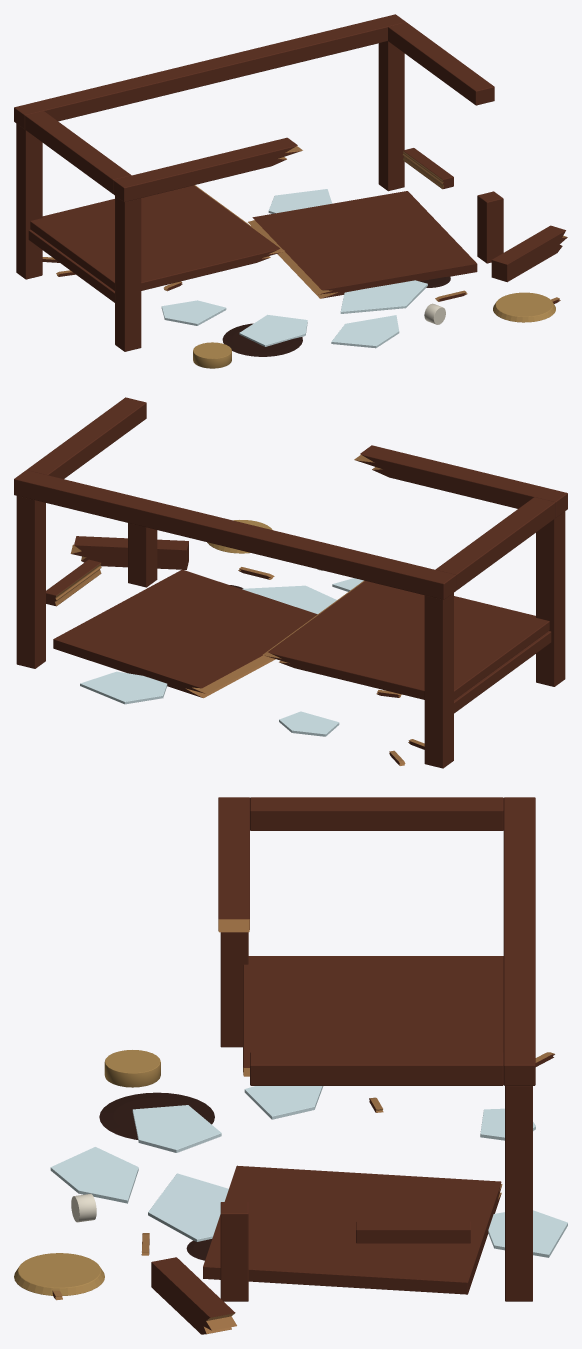
File: teatable.fbx
3 renders of one model, top to bottom at view 1: azimuth 30°, elevation 25°; view 2: azimuth 150°, elevation 25°; view 3: azimuth 270°, elevation 25°, orthographic. The views are drawn at different scales.
Visible parts, largest first — view 1: 02_CoffeeTable_Wrecked_Frame_Wood, 02_CoffeeTable_Wrecked_Fallen_Wood_Debris, 02_CoffeeTable_Wrecked_Fallen_Glass_Shards, 02_CoffeeTable_Wrecked_Fallen_Brass_And_Porcelain, 02_CoffeeTable_Wrecked_Floor_Tea_Stains; view 2: 02_CoffeeTable_Wrecked_Frame_Wood, 02_CoffeeTable_Wrecked_Fallen_Wood_Debris, 02_CoffeeTable_Wrecked_Fallen_Glass_Shards; view 3: 02_CoffeeTable_Wrecked_Frame_Wood, 02_CoffeeTable_Wrecked_Fallen_Wood_Debris, 02_CoffeeTable_Wrecked_Fallen_Glass_Shards, 02_CoffeeTable_Wrecked_Fallen_Brass_And_Porcelain, 02_CoffeeTable_Wrecked_Floor_Tea_Stains.
Part boxes in pixels (x1,y1,x2,y2): 02_CoffeeTable_Wrecked_Frame_Wood: (14,14,503,351); 02_CoffeeTable_Wrecked_Fallen_Wood_Debris: (42,191,567,303); 02_CoffeeTable_Wrecked_Fallen_Glass_Shards: (161,189,427,348); 02_CoffeeTable_Wrecked_Fallen_Brass_And_Porcelain: (193,292,555,368); 02_CoffeeTable_Wrecked_Floor_Tea_Stains: (222,276,450,356); 02_CoffeeTable_Wrecked_Frame_Wood: (14,397,567,768); 02_CoffeeTable_Wrecked_Fallen_Wood_Debris: (53,536,424,765); 02_CoffeeTable_Wrecked_Fallen_Glass_Shards: (80,578,363,736); 02_CoffeeTable_Wrecked_Frame_Wood: (218,797,535,1301); 02_CoffeeTable_Wrecked_Fallen_Wood_Debris: (52,1052,554,1334); 02_CoffeeTable_Wrecked_Fallen_Glass_Shards: (50,1086,567,1257); 02_CoffeeTable_Wrecked_Fallen_Brass_And_Porcelain: (14,1050,160,1295); 02_CoffeeTable_Wrecked_Floor_Tea_Stains: (99,1092,214,1260).
Size of the model in its own units: 120 by 43.02 by 90.78.
